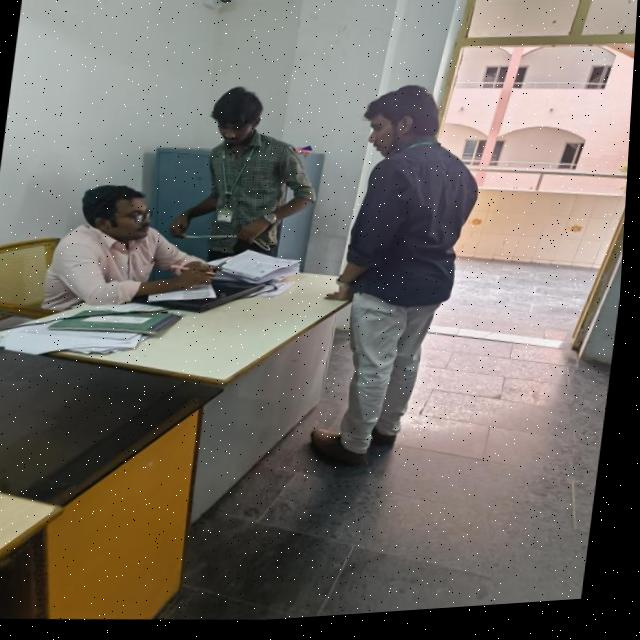id_card: (204, 143, 264, 232)
